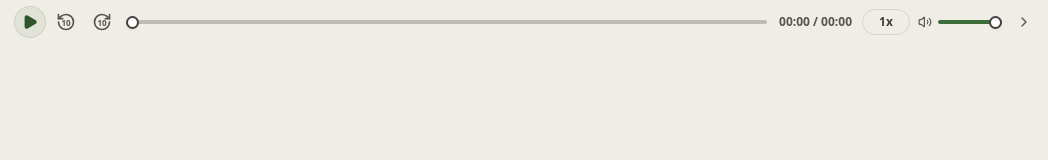
Scenario: AudioPlayer › folds on a downward swipe over the bar but not while dragging the scrubber
Press the mouse on the slider named "Posizione audio": (446, 22) [126,20,767,24]
Press the mouse on the button named "Avvia riproduzione": (30, 22) [14,6,46,38]
Wait 280 ms
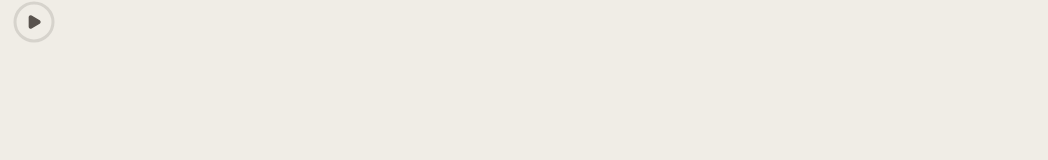
Check: the button named "Mostra il player audio (in pausa" is shown, box [12,0,56,44]
